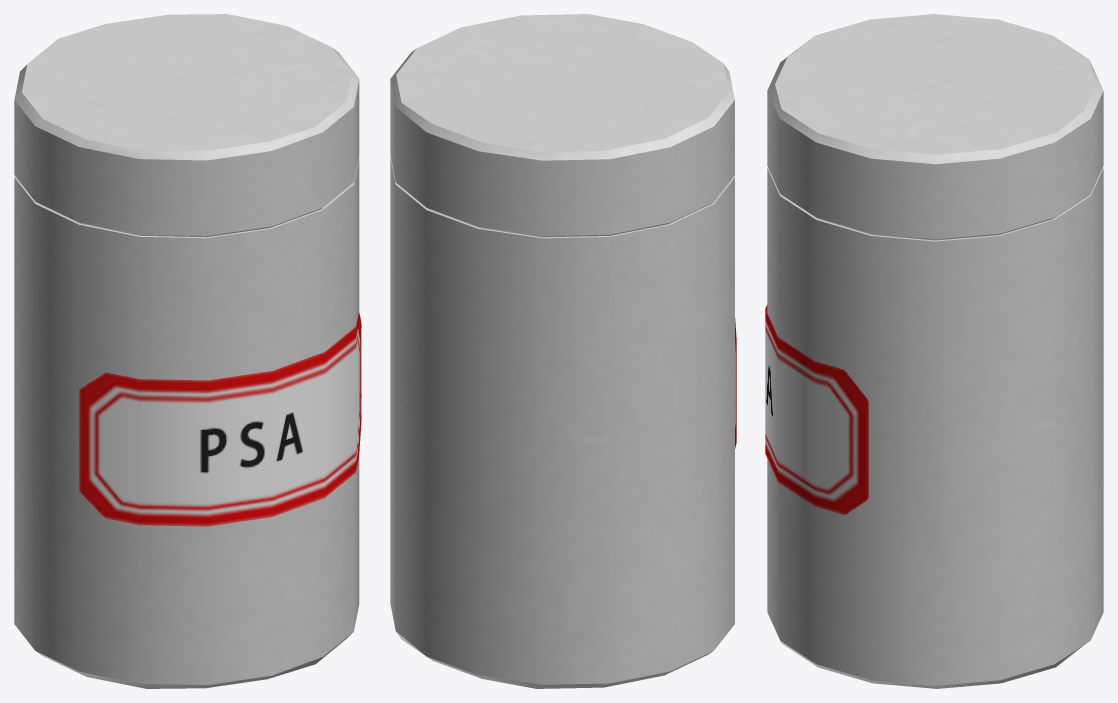
Rendered from SM_PSA.FBX.
The picture shows the model from 3 angles, left to right: view 1: azimuth 30°, elevation 25°; view 2: azimuth 150°, elevation 25°; view 3: azimuth 270°, elevation 25°; orthographic projection.
Visible parts, largest first — view 1: SM_PSA, SM_PSA盖子; view 2: SM_PSA, SM_PSA盖子; view 3: SM_PSA, SM_PSA盖子.
Boxes of the visible parts, box(x1,y1,x2,y2) form: SM_PSA: box(14, 156, 361, 688); SM_PSA盖子: box(14, 14, 359, 237); SM_PSA: box(390, 156, 736, 688); SM_PSA盖子: box(390, 14, 734, 237); SM_PSA: box(765, 167, 1103, 688); SM_PSA盖子: box(767, 14, 1103, 240).
Size of the model in its own units: 0.0801 by 0.0778 by 0.1356.
